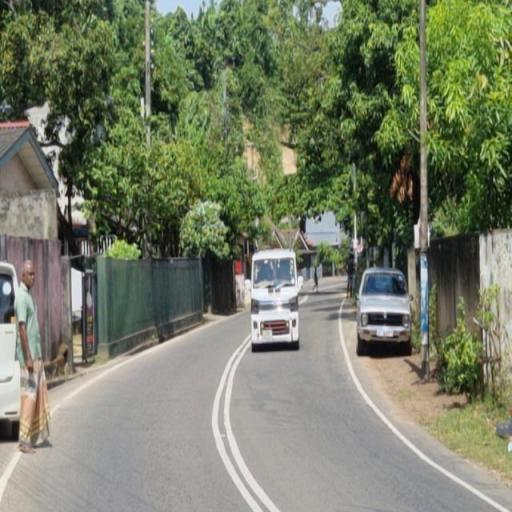double_white_line: (211, 327, 279, 512)
